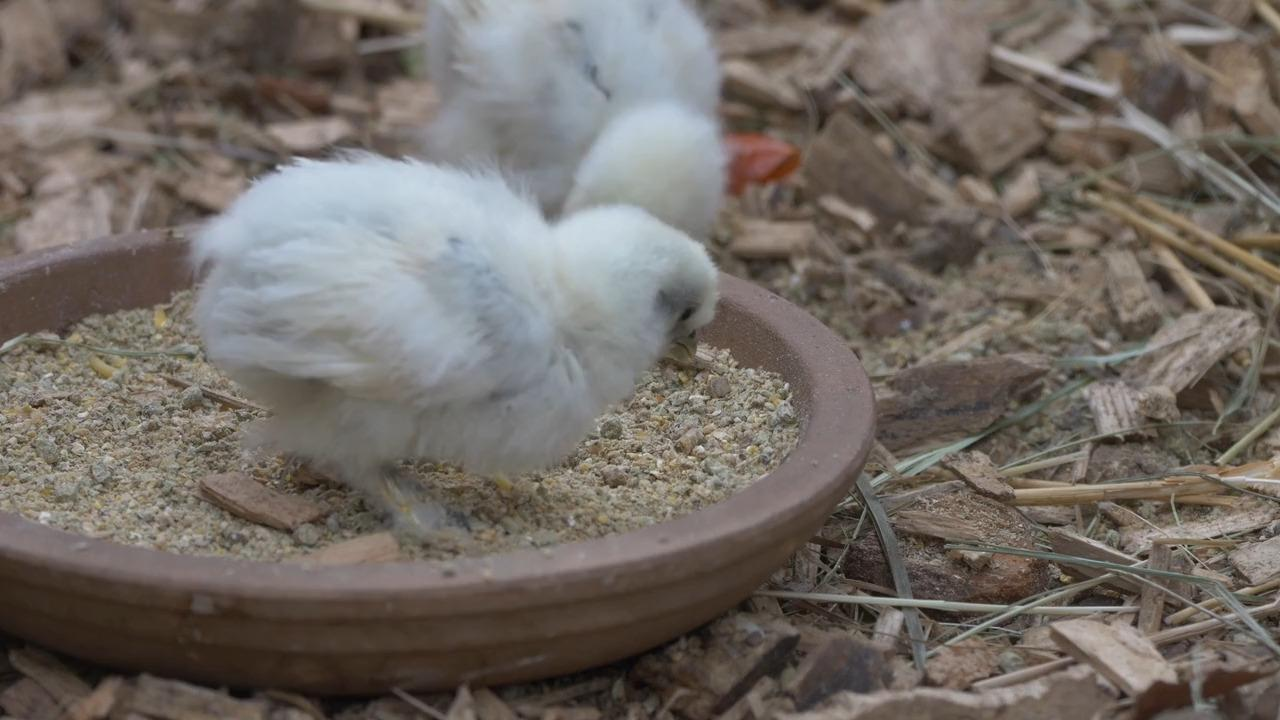Normal: (193, 135, 726, 502)
